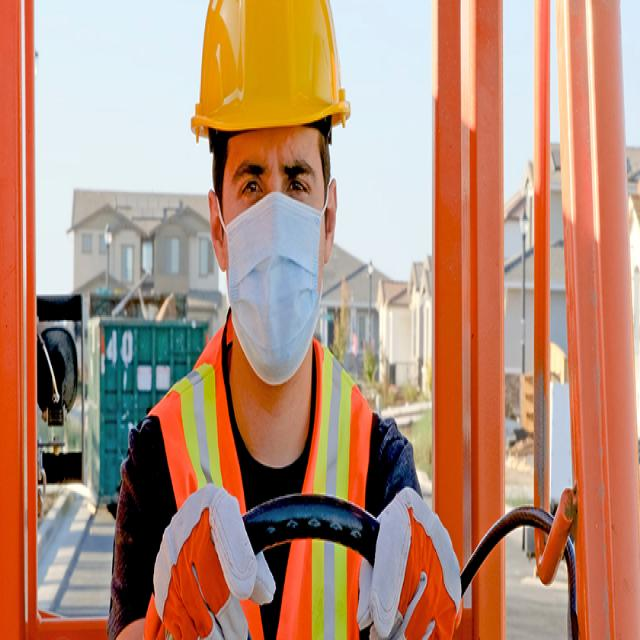helmet: (191, 0, 347, 173)
no-goggles: (210, 140, 334, 217)
vest: (156, 304, 386, 640)
